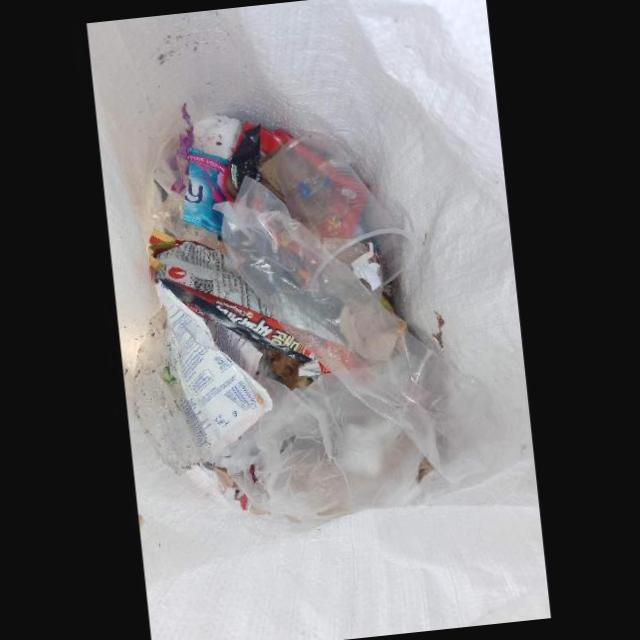bao_bi_thuc_pham: (148, 229, 313, 363)
goi_nhua_nho: (154, 281, 271, 463), (181, 148, 236, 236)
tui_ni_long: (211, 177, 504, 487), (211, 373, 437, 524)
